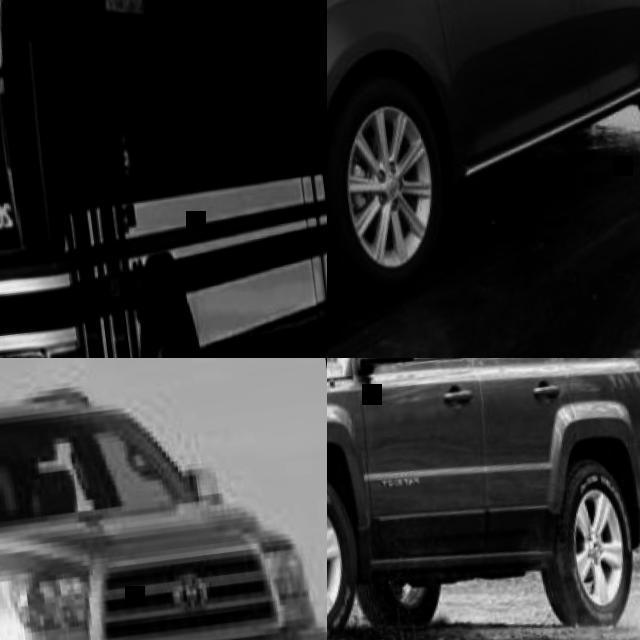car: (324, 0, 639, 306), (328, 350, 640, 628), (3, 395, 319, 635)
